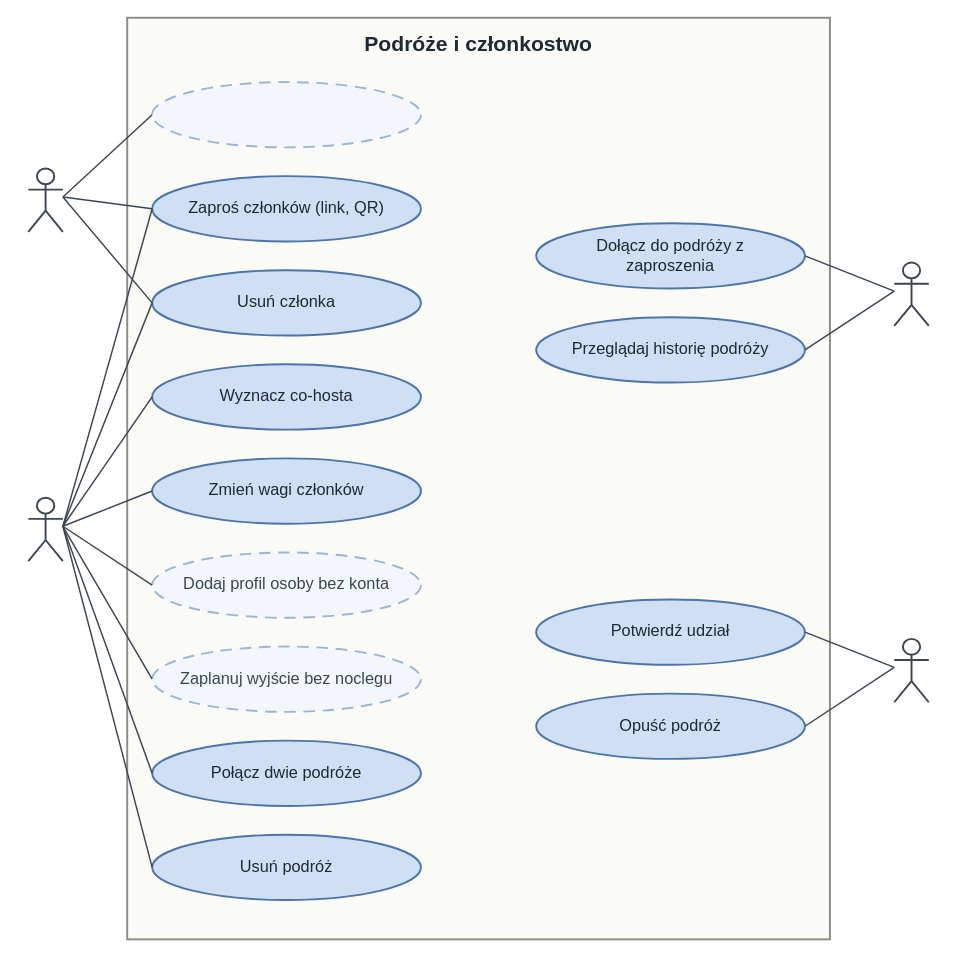
This 969x956 diagram has some shape labels left out. Each missing label, with the centre of its shape:
Co-host: the point at 45,199
Członek podróży: the point at 911,670
Edytuj podróż: the point at 286,114
Host: the point at 45,529
Użytkownik: the point at 911,293
